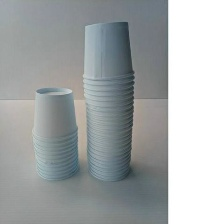paper_cup: (78, 15, 141, 185), (28, 84, 82, 185)
